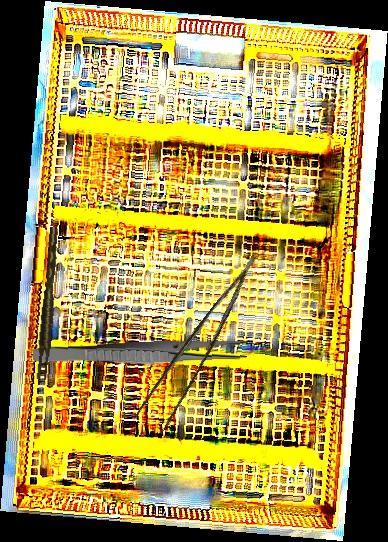Dressing Forceps: (32, 338, 248, 369)
Tissue Forceps: (125, 255, 283, 442), (31, 226, 66, 381)
